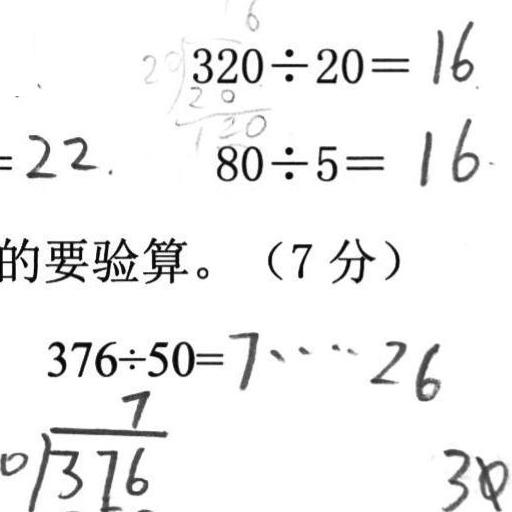ans: (225, 324, 443, 403), (411, 113, 479, 186), (25, 128, 98, 181), (425, 16, 475, 84)
